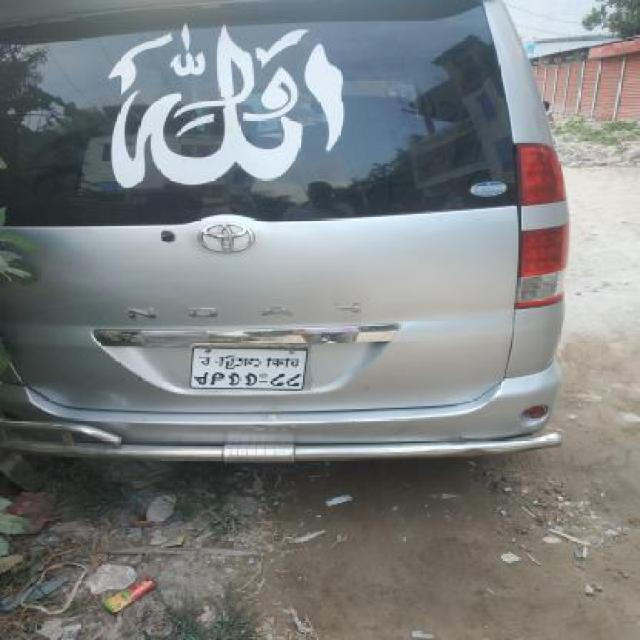numberplate: (189, 343, 311, 391)
